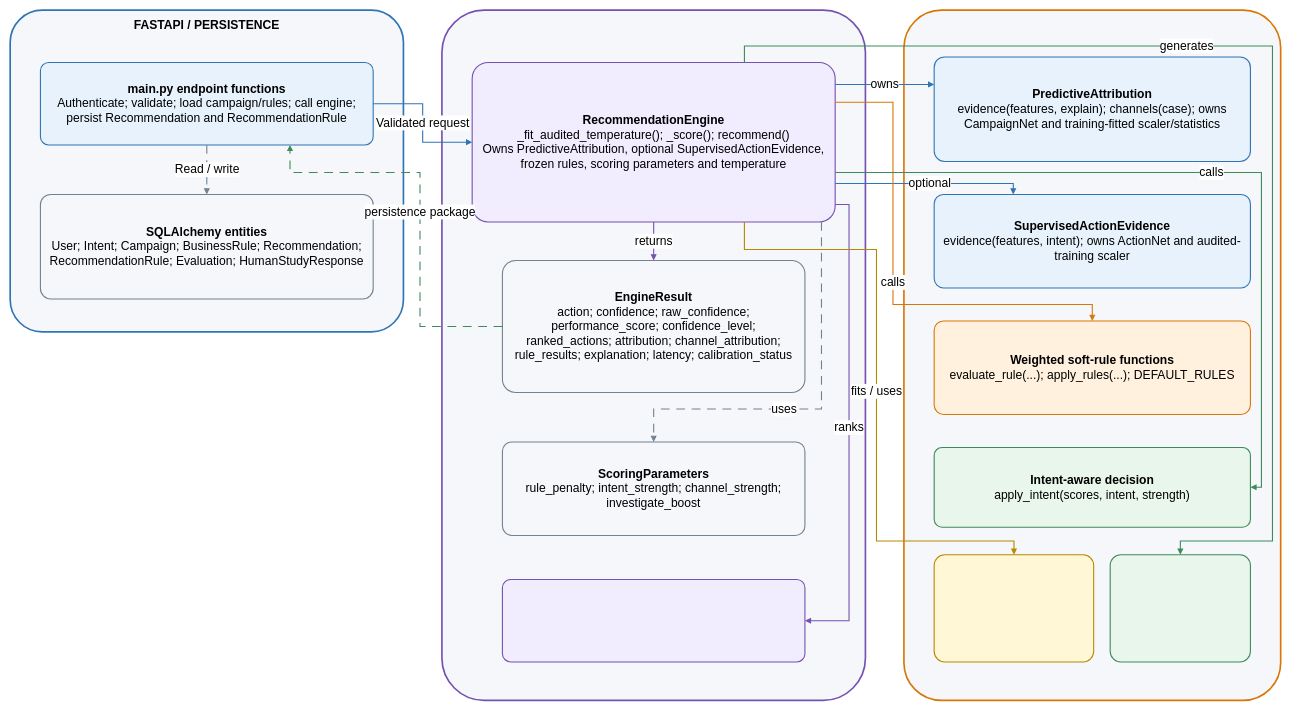
Some shapes in this 1291 by 711 pixel diagram are drawn without their labels. Here are the shapes that lost their labels. From the top down, the box of each, then its label:
(441, 9, 866, 701): RUNTIME ORCHESTRATION
(903, 9, 1281, 701): MODEL AND REASONING COMPONENTS
(502, 579, 805, 662): Candidate-action functions rank_actions(scores, temperature); softmax(scores)
(933, 554, 1094, 662): Confidence calibration fit_temperature(logits, labels)
(1109, 554, 1251, 662): Explanation explain(...) → Driver, Implication, Action, Caveat, Intent
